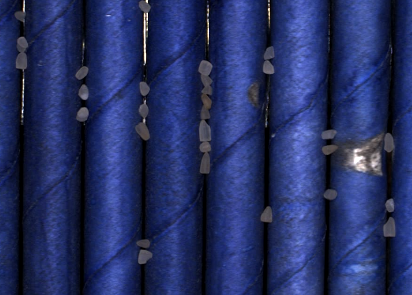broken_grain: (135, 120, 153, 145), (382, 215, 399, 241), (198, 120, 215, 142), (137, 248, 154, 268), (260, 205, 276, 226), (198, 151, 212, 174), (14, 51, 29, 72), (384, 130, 396, 156), (198, 58, 214, 77), (76, 106, 91, 124), (78, 82, 90, 103), (321, 127, 339, 141), (321, 143, 339, 157), (138, 80, 151, 99), (137, 103, 151, 120), (198, 74, 215, 88), (261, 44, 275, 61), (322, 188, 339, 202), (263, 58, 276, 76), (75, 65, 89, 81), (136, 1, 153, 14), (199, 140, 213, 154), (385, 198, 397, 214), (135, 238, 152, 249), (200, 104, 211, 121), (13, 11, 28, 23), (17, 36, 30, 48)
yellow_grain: (200, 92, 214, 110)
